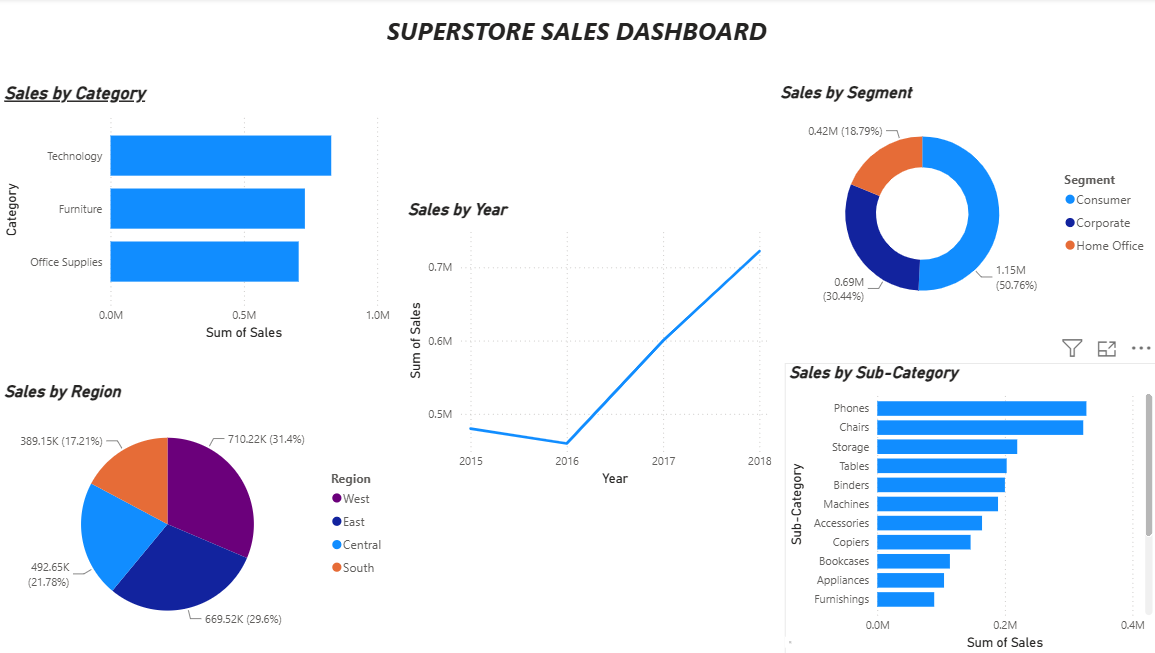

The page's visual inventory and layout, read from the dashboard file:
{"tool":"powerbi","page":{"name":"Page 1","canvas":[1280,720],"ordinal":0},"visuals":[{"type":"clusteredBarChart","title":"Sales by Category","fields":{"Category":["train.Category"],"Y":["Sum(train.Sales)"]},"box":[0,105,433.8,286.2],"z":0},{"type":"pieChart","title":"Sales by Region","fields":{"Category":["train.Region"],"Y":["Sum(train.Sales)"]},"box":[9.6,421.3,433.6,292.3],"z":1000},{"type":"donutChart","title":"Sales by Segment","fields":{"Category":["train.Segment"],"Y":["Sum(train.Sales)"]},"box":[768.8,105,372.5,273.8],"z":2000},{"type":"lineChart","title":"Sales by Year","fields":{"Category":["train.Order Date.Variation.Date Hierarchy.Year","train.Order Date.Variation.Date Hierarchy.Quarter","train.Order Date.Variation.Date Hierarchy.Month","train.Order Date.Variation.Date Hierarchy.Day"],"Y":["Sum(train.Sales)"]},"box":[452.5,230,316.2,297.5],"z":3000},{"type":"clusteredBarChart","title":"Sales by Sub-Category","fields":{"Category":["train.Sub-Category"],"Y":["Sum(train.Sales)"]},"box":[768.8,401.2,408.8,318.8],"z":4000},{"type":"textbox","box":[871.4,701.2,12.3,12.3],"z":5000},{"type":"textbox","box":[418.8,30,465,48.8],"z":6000}]}

Visuals, with their boxes in screenshot pixels (x1, y1, x2, y2), scaled from the page's 1280x720 canvas onto the 1155x653 screenshot:
"Sales by Category" clusteredBarChart: [0,95,391,355]
"Sales by Region" pieChart: [9,382,400,647]
"Sales by Segment" donutChart: [694,95,1030,344]
"Sales by Year" lineChart: [408,209,694,478]
"Sales by Sub-Category" clusteredBarChart: [694,364,1063,652]
textbox: [786,636,797,647]
textbox: [378,27,797,71]
